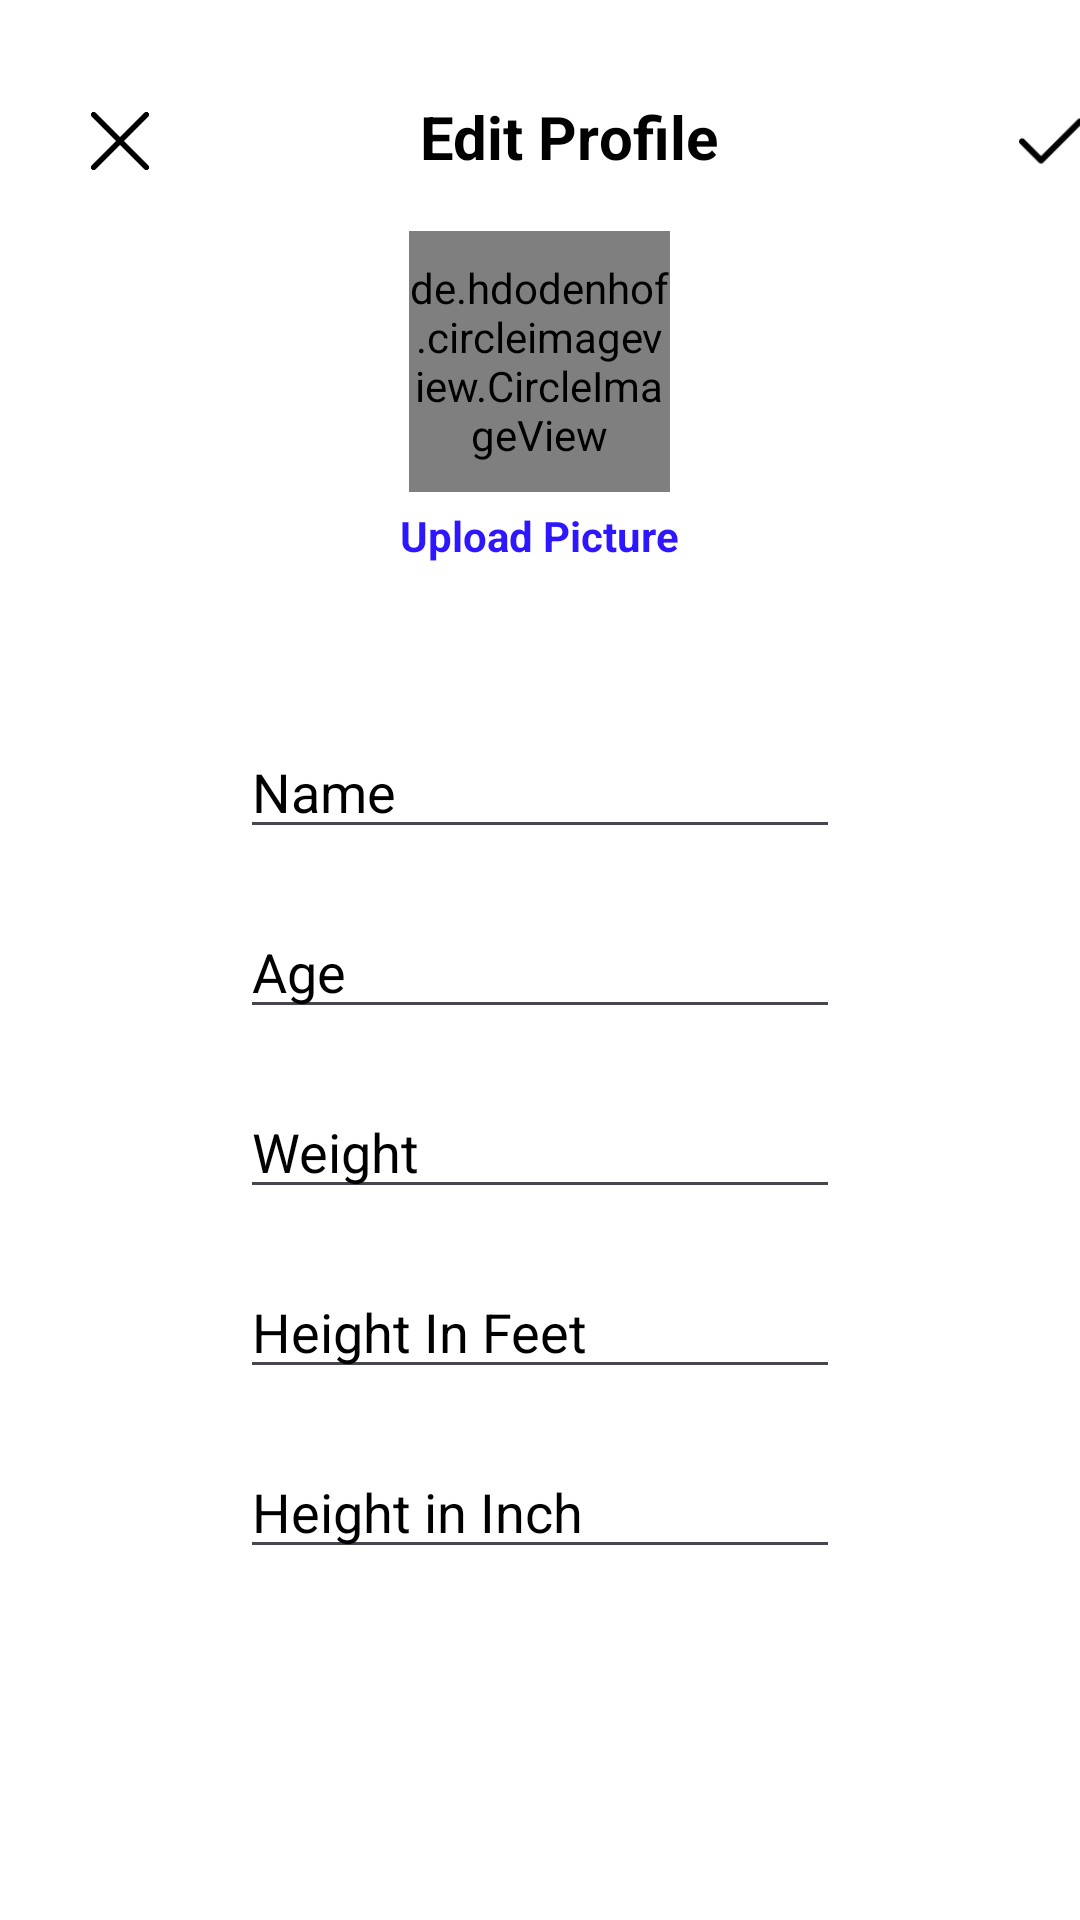

Where icons sit on this 1080*1920 app screen, as Rect(x1, y1, x2, y2):
cross: Rect(91, 112, 149, 170)
